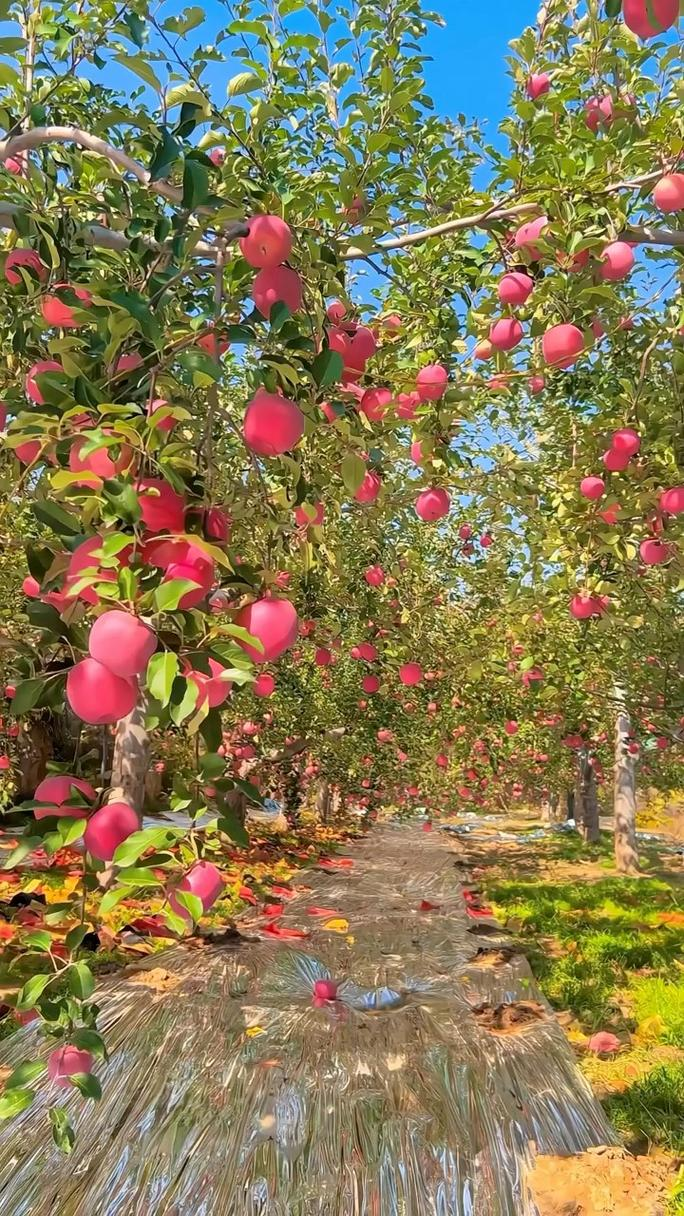ripe: (50, 648, 140, 726), (78, 794, 161, 875), (230, 583, 310, 661), (81, 602, 158, 676), (323, 316, 388, 391), (239, 378, 301, 456), (245, 261, 304, 323), (527, 316, 589, 372), (233, 208, 282, 267)
